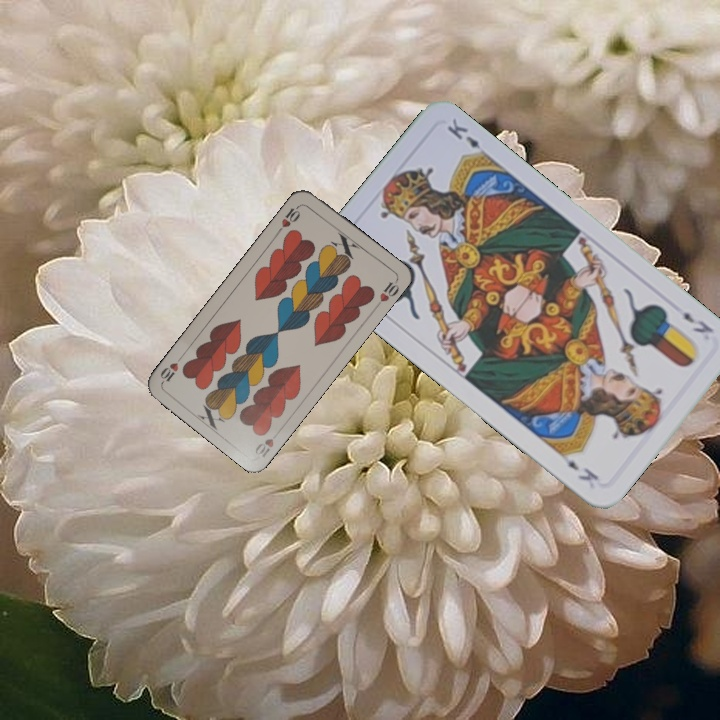EK: (678, 307, 717, 336)
H10: (251, 425, 284, 460), (274, 201, 303, 236)
